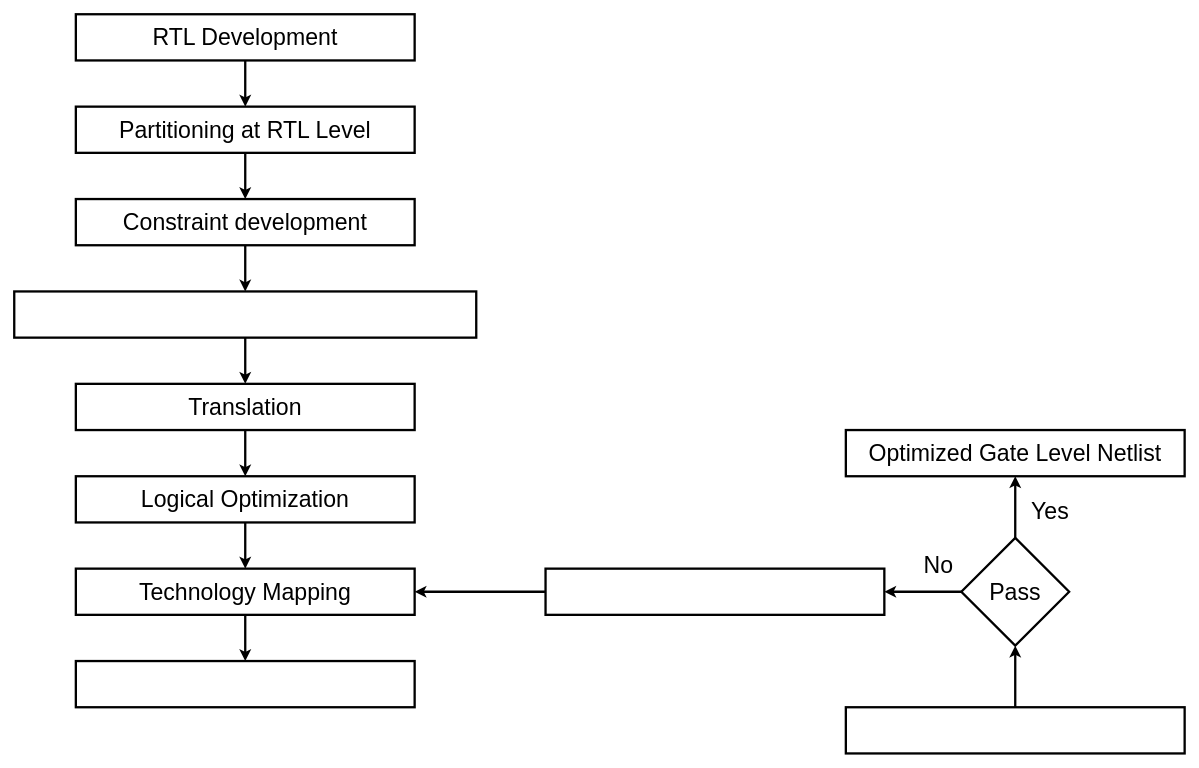
This 1199x768 diagram has some shape labels left out. The shapes that lost their labels are listed below. From the top down, each one's box as (x1, y1, x2, y2) in pixels, then its label:
(13, 290, 477, 338): RTL Integration or Constraint Checking
(544, 567, 885, 616): Remapping of Cells in .lib
(74, 660, 415, 708): Timing Optimization
(844, 706, 1185, 754): Timing Analysis
